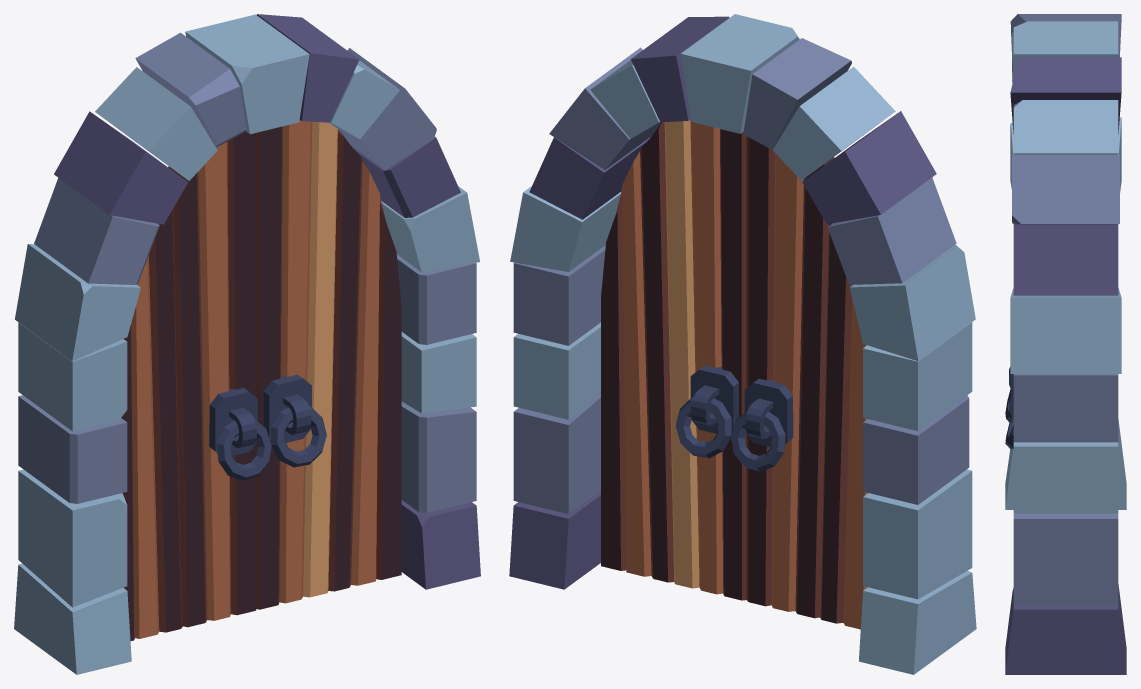
Rendered from Doors_01.fbx.
3 views of the same model, side by side, from view 1: azimuth 30°, elevation 25°; view 2: azimuth 150°, elevation 25°; view 3: azimuth 270°, elevation 25° (orthographic). The views are drawn at different scales.
Parts seen in each view (by area): view 1: Doors_01; view 2: Doors_01; view 3: Doors_01.
Part boxes in pixels (left/top/right/bottom): Doors_01: left=14, top=14, right=480, bottom=674; Doors_01: left=509, top=14, right=976, bottom=674; Doors_01: left=1005, top=14, right=1126, bottom=674.
Size of the model in its own units: 234 by 307 by 62.45.
